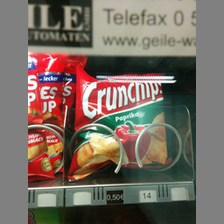chips: (74, 68, 174, 175)
